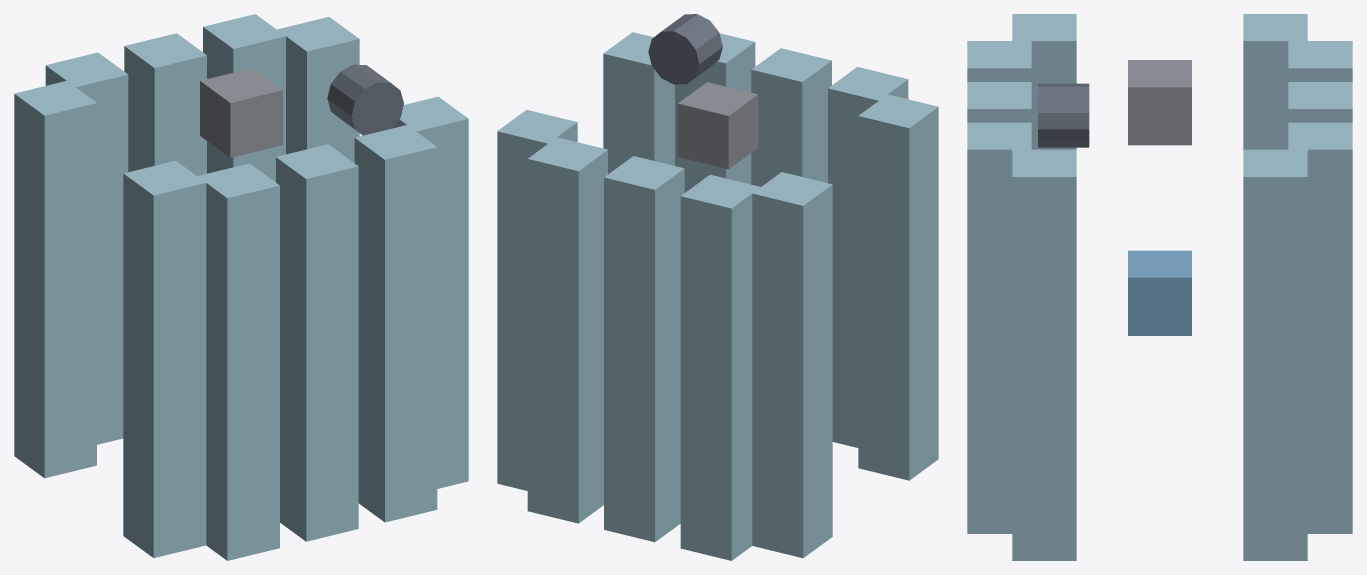
Rendered from bld_apartment_blue.glb.
3 renders of one model, left to right at view 1: azimuth 30°, elevation 25°; view 2: azimuth 150°, elevation 25°; view 3: azimuth 270°, elevation 25°, orthographic. The views are drawn at different scales.
Parts seen in each view (by area): view 1: world; view 2: world; view 3: world.
Boxes of the visible parts, bbox=[...] form: world: bbox=[14, 14, 468, 560]; world: bbox=[497, 14, 938, 560]; world: bbox=[967, 14, 1352, 560].
Size of the model in its own units: 6 by 7.45 by 6.
